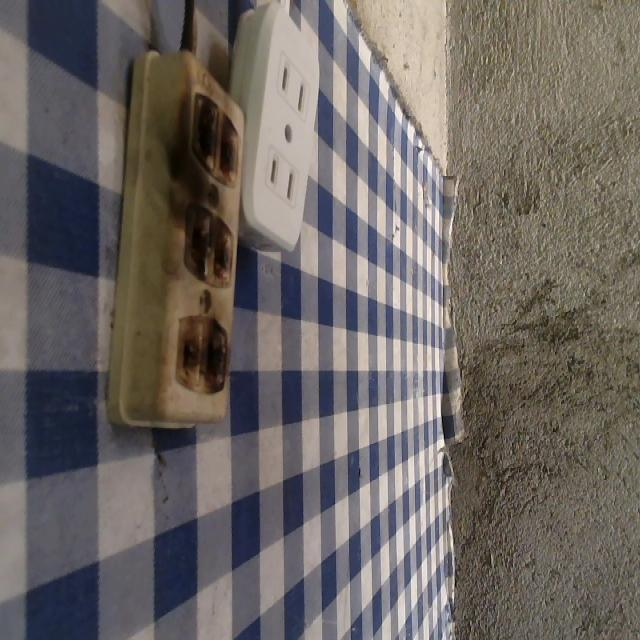-: (184, 86, 243, 186), (179, 200, 234, 288), (175, 307, 231, 385)
